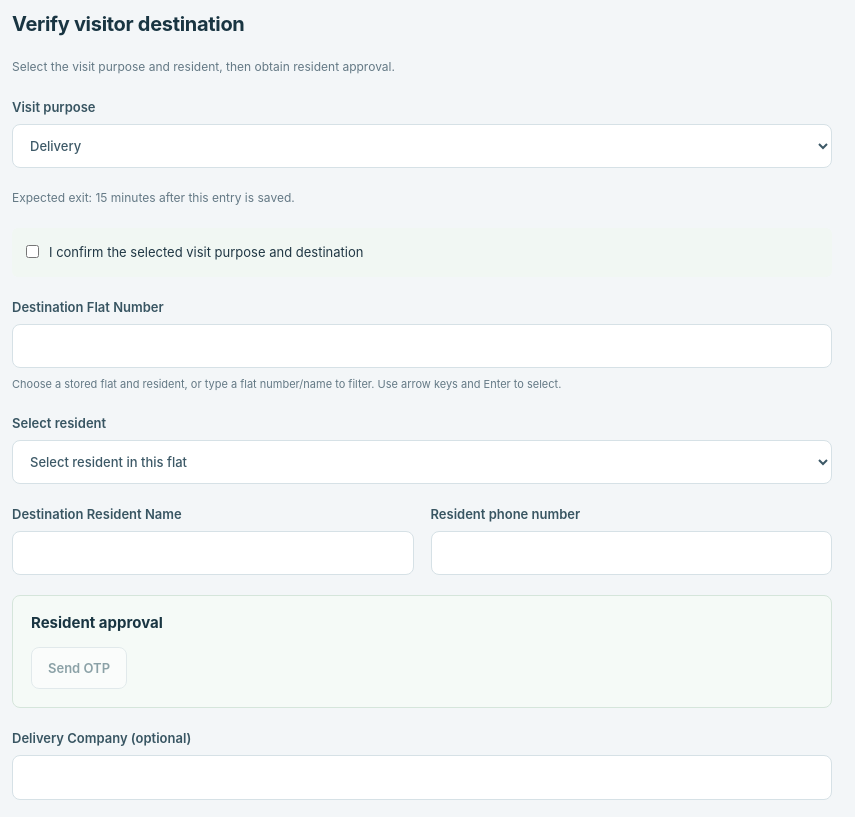
Test: flat lookup lists stored residents on focus, filters and selects a partial match
Type "b-2" into the dropdown labelled "Destination Flat Number". click: x=422, y=346
box: [12,324,832,368]
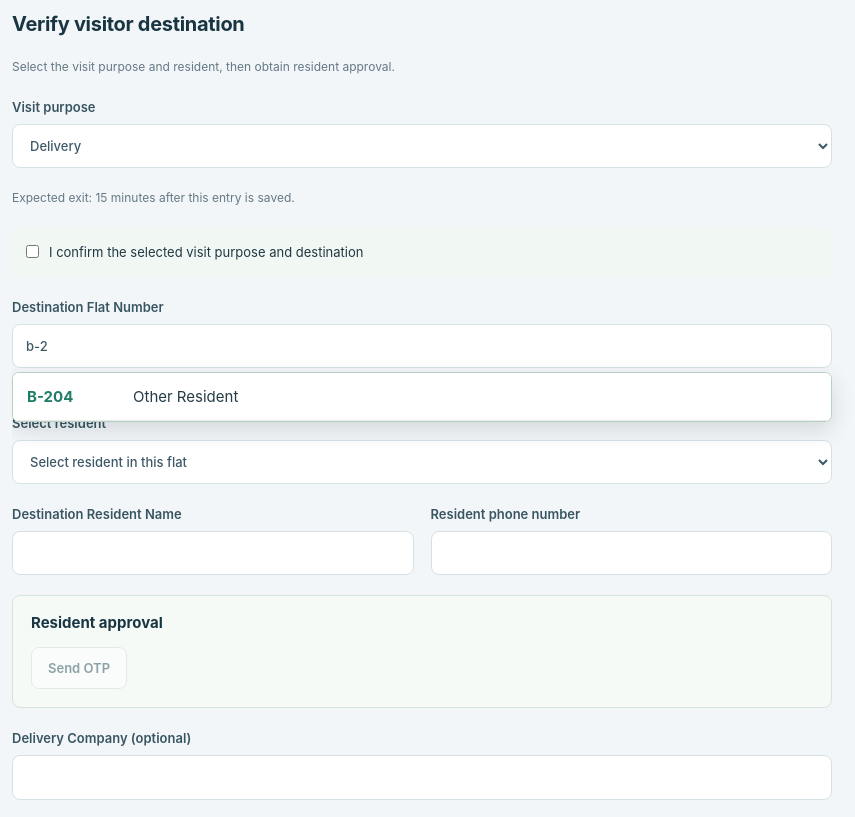
Expected: the option "B-204 Other Resident" is shown
Expected: the option "A-2 Resident Two" is gone
Click the option "B-204 Other Resident". click: x=50, y=396
box: [13,373,831,421]
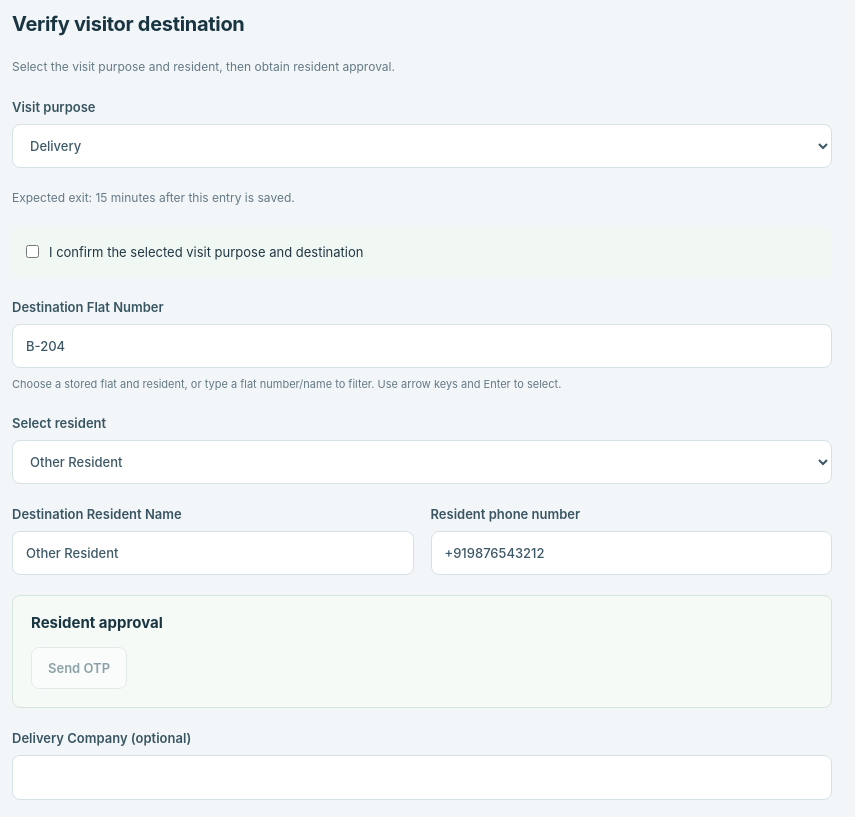
Expected: the dropdown labelled "Destination Flat Number" holds "B-204", [12,324,832,368]
Expected: the field labelled "Destination Resident Name" holds "Other Resident", [12,531,414,575]
Expected: the field labelled "Resident phone number" holds "+919876543212", [430,531,832,575]
